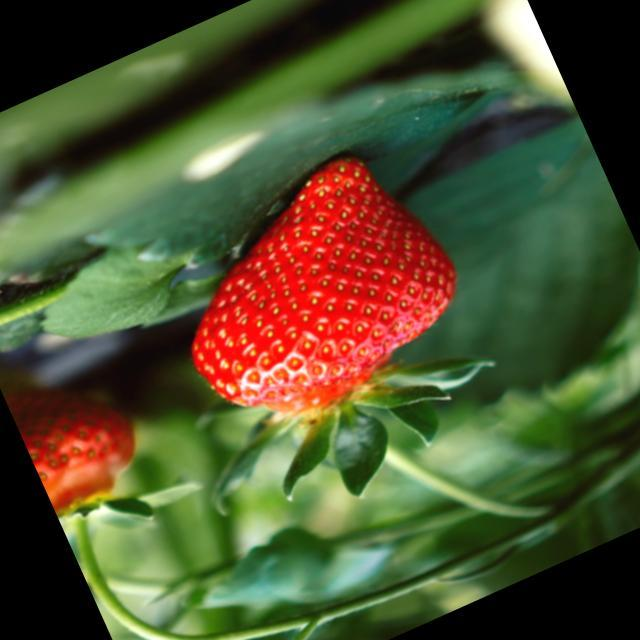strawberry: (192, 158, 456, 412), (8, 390, 134, 512)
